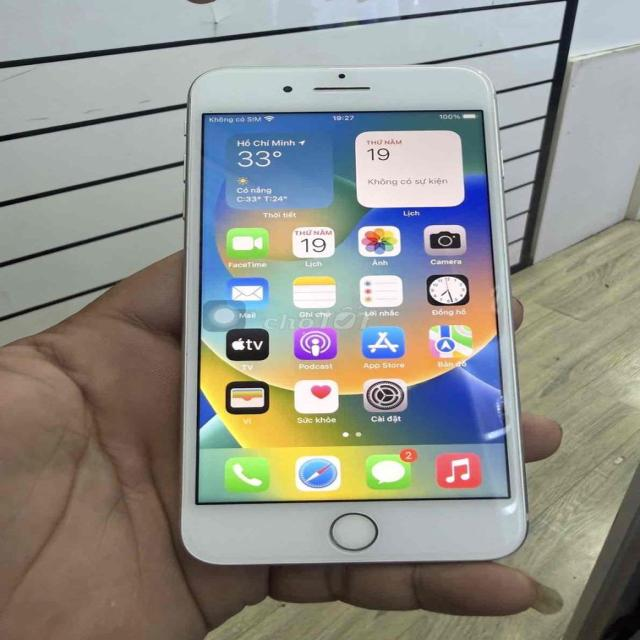gen_7_8: (157, 49, 539, 576)
